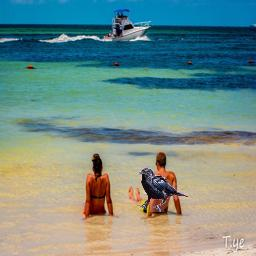Crow: (137, 168, 188, 212)
